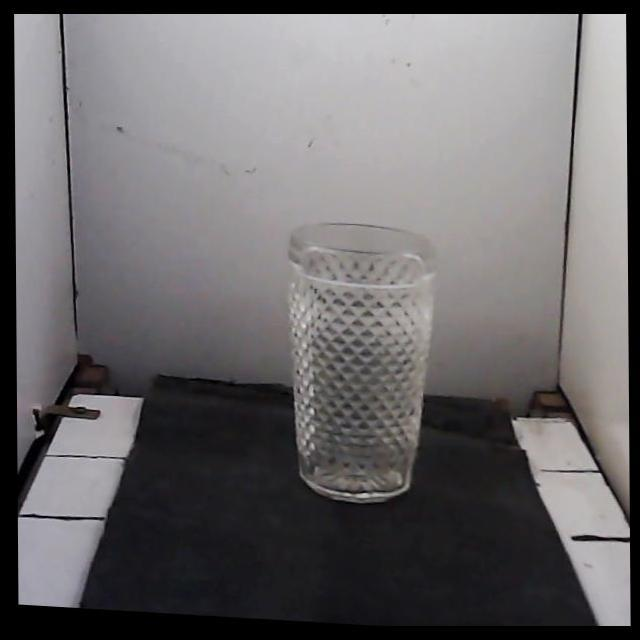vidro: (289, 224, 434, 501)
